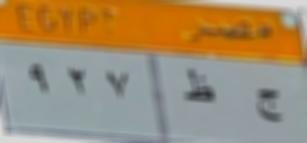2: (68, 64, 92, 97)
7: (106, 64, 131, 102)
9: (25, 62, 54, 100)
Thaa: (180, 64, 221, 110)
jeem: (252, 77, 284, 130)
